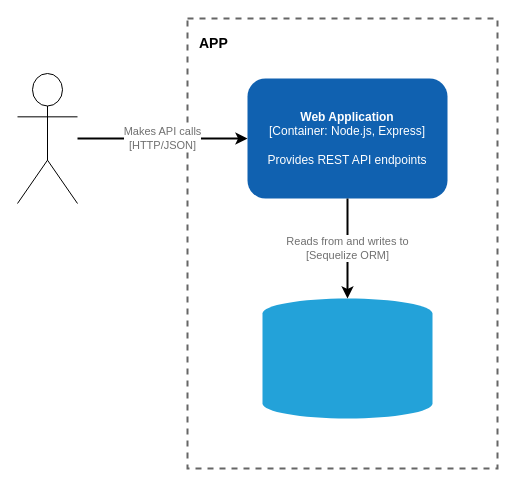
Some shapes in this 516 by 486 pixel diagram are drawn without their labels. The centre of each missing label's shape, as x and y in pixels:
Actor: (x=47, y=138)
Database [Container: SQLite] Stores client information: (x=347, y=358)
